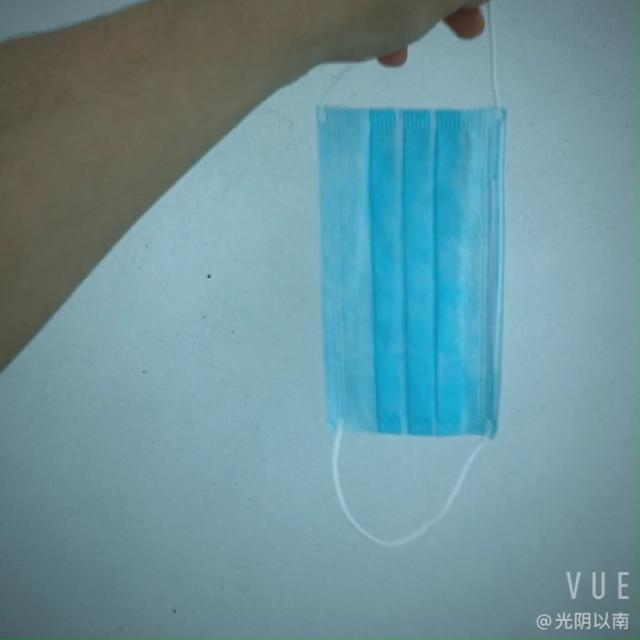face mask: (299, 97, 527, 465)
